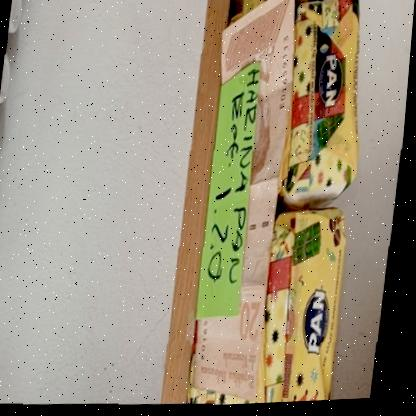twenty-front-vef: (187, 0, 303, 405)
